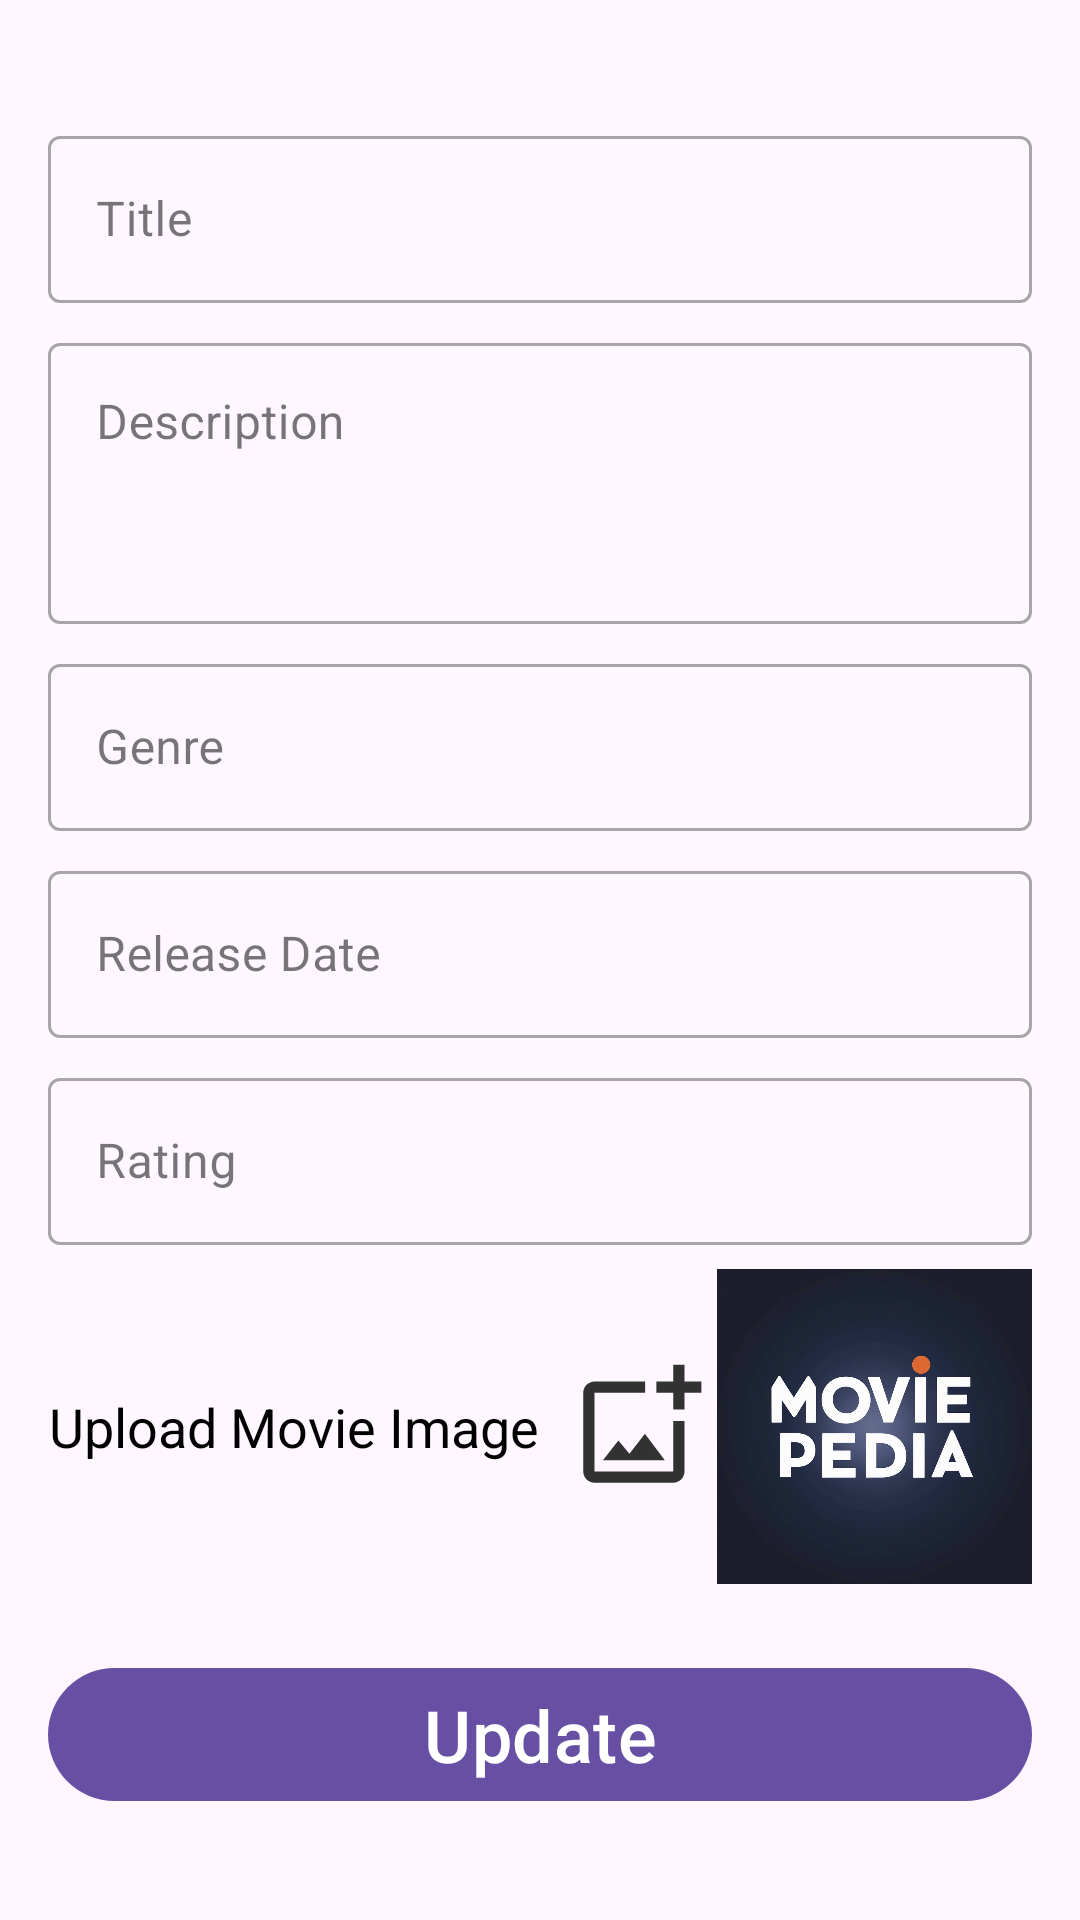

Icons on this 1080*1920 Android screen, each with the point to tap as (x=x, y=y):
add photo: (x=642, y=1423)
